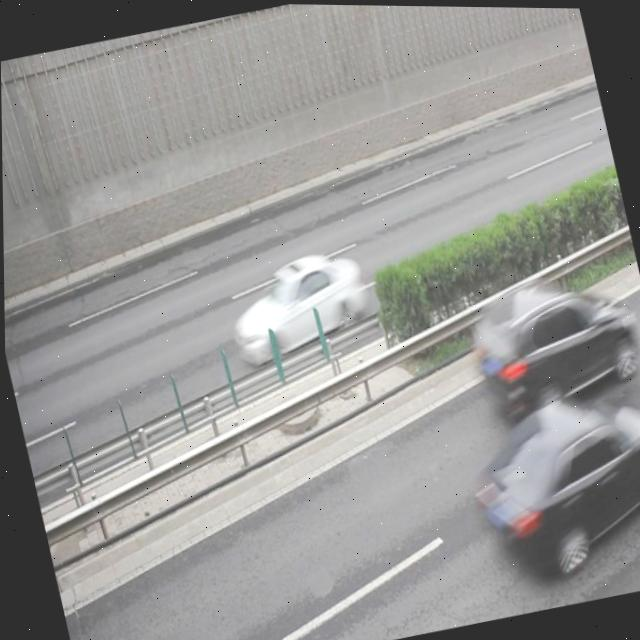car: (456, 372, 640, 581), (463, 259, 640, 418), (218, 243, 375, 367)
